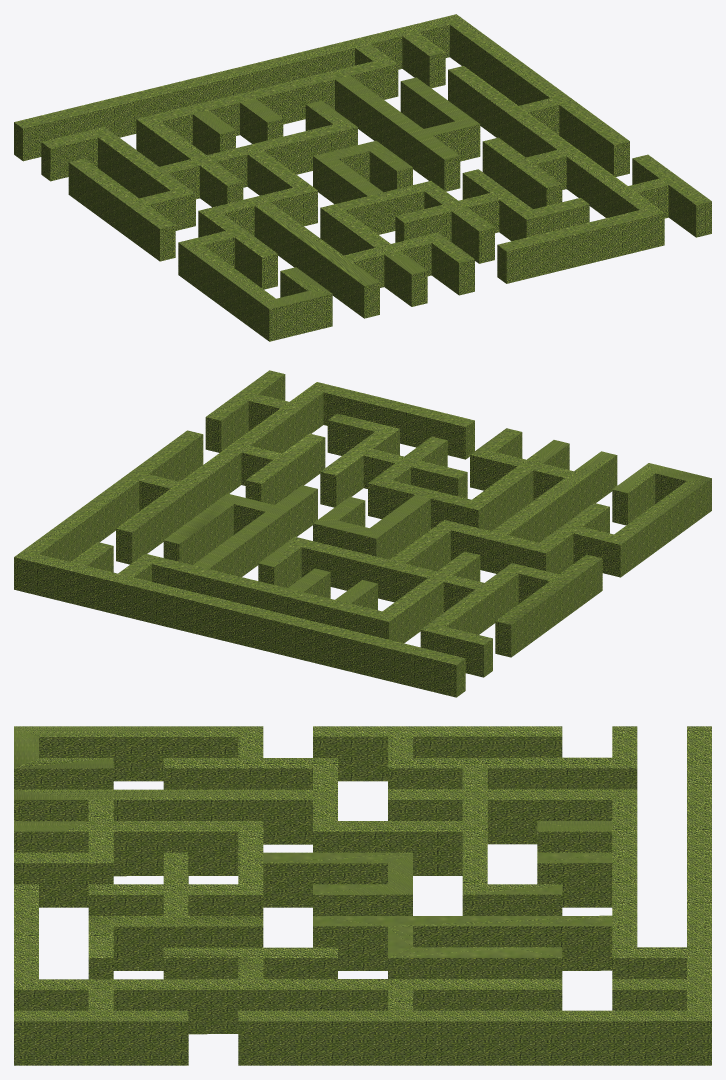
Rendered from hedge1.fbx.
3 views of the same model, one above another, from view 1: azimuth 30°, elevation 25°; view 2: azimuth 150°, elevation 25°; view 3: azimuth 270°, elevation 25° (orthographic). The views are drawn at different scales.
Visible parts, largest first — view 1: dungeon; view 2: dungeon; view 3: dungeon.
Part boxes in pixels (left/top/right/bottom): dungeon: left=14, top=14, right=711, bottom=341; dungeon: left=14, top=370, right=711, bottom=697; dungeon: left=14, top=726, right=711, bottom=1065.
Bounding box in the file's own units: 42157 × 2978 × 42158.
